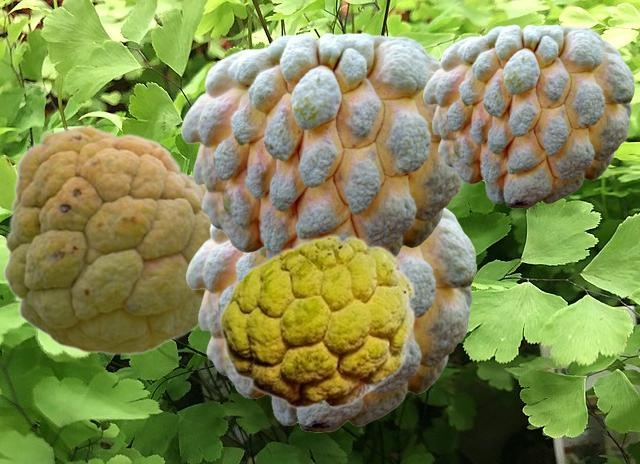atis: (186, 208, 475, 431), (181, 32, 464, 258), (2, 124, 209, 354), (423, 24, 633, 207), (218, 234, 415, 408)
